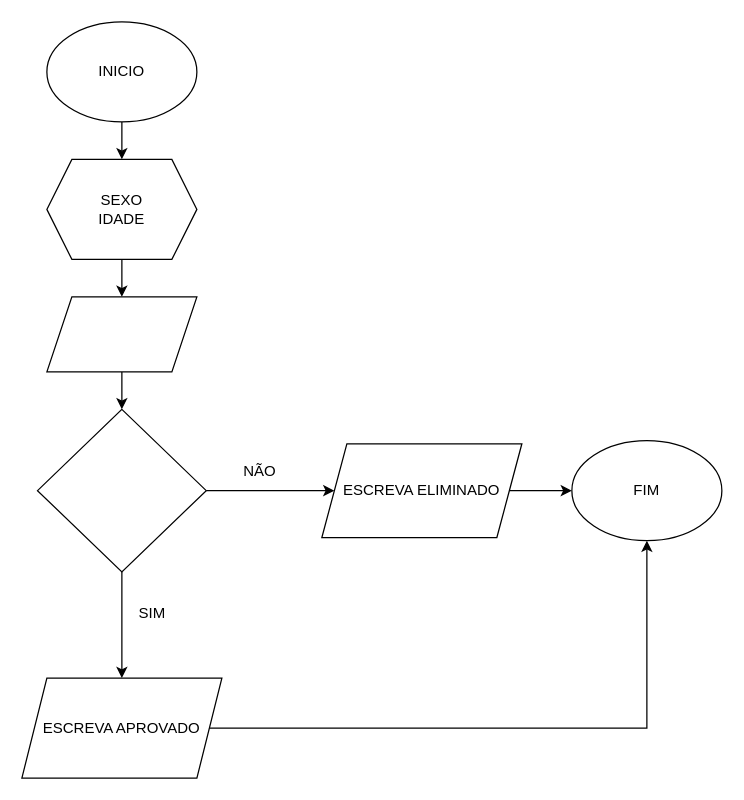
Image size: 744x800. Some labels were removed from this diagram. Here are the shapes that lost their labels. From the top down, the centre of each, then its label:
At (x=121, y=334): "LER SEXO LER IDADE".
At (x=121, y=490): "SEXO = feminino IDADE < 25".
